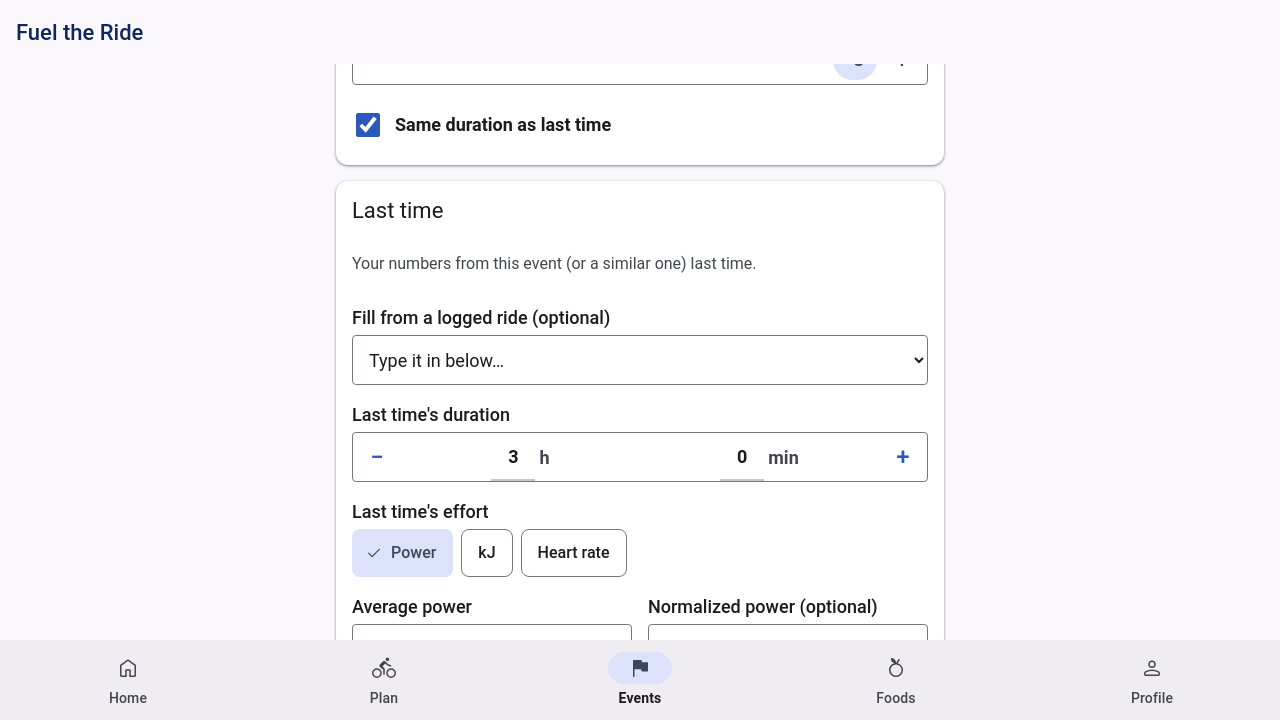
Test: new event: filled from a logged ride › picking a past race fills duration, power, FTP back then, carbs eaten and the check-in
The image size is (1280, 720).
(page scrolled)
Select "Gran Fondo 2025, Sun, Nov 9, 2025, 3 h" in the dropdown labelled "Fill from a logged ride (optional)" at {"x": 640, "y": 360}, box [353,336,927,384]
(page scrolled)
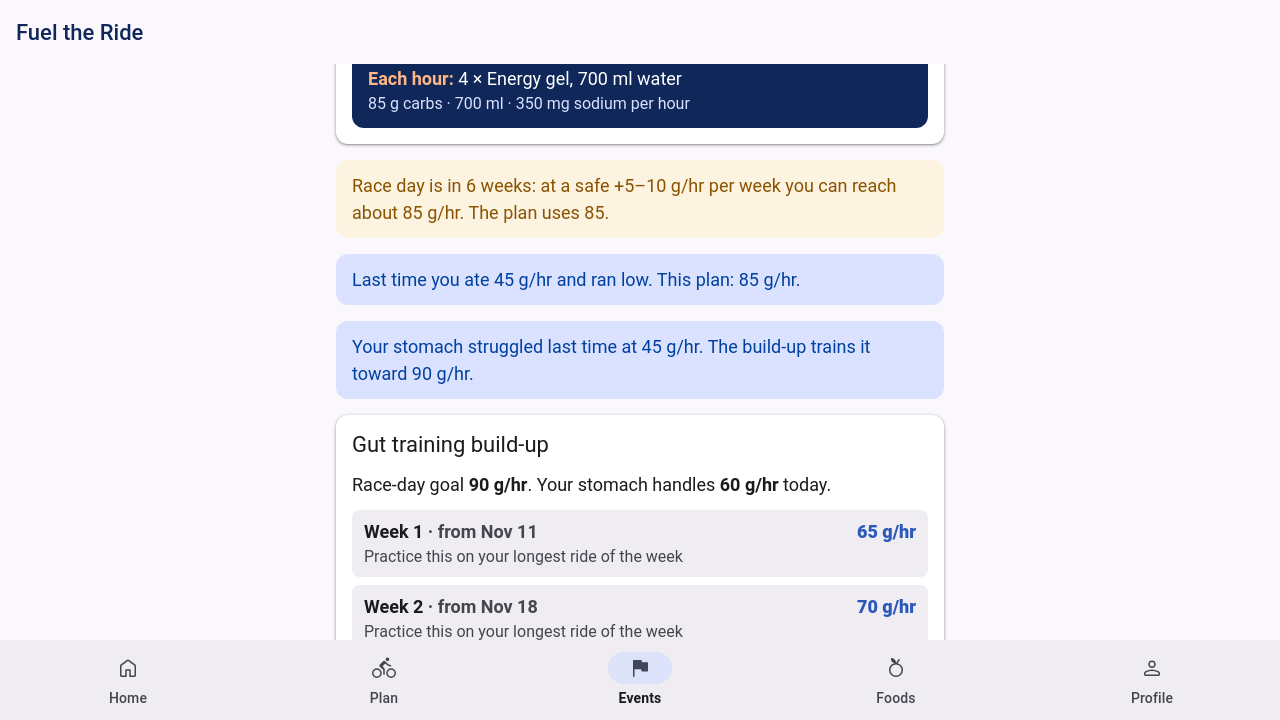
Now the text "Last time you ate 45 g/hr and ran low. This plan: 85 g/hr." is shown, box [336,254,944,305]
Now the text "Your stomach struggled last time at 45 g/hr" is shown, box [352,336,870,384]
